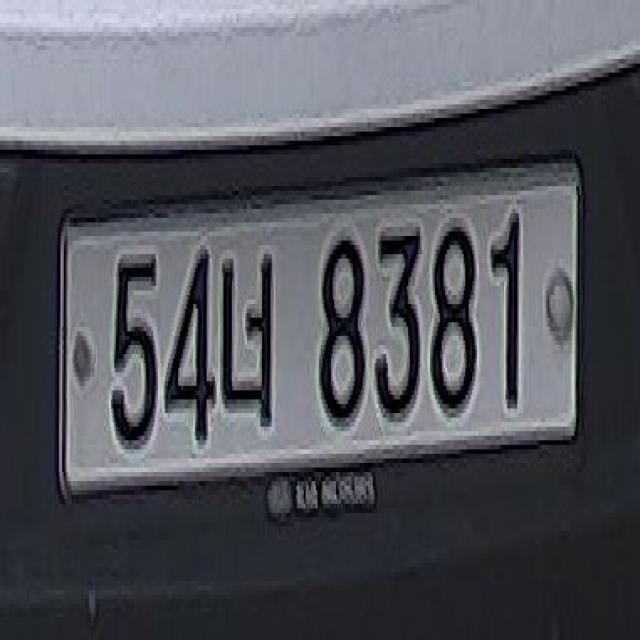1: (479, 200, 527, 436)
3: (372, 200, 434, 436)
4: (161, 204, 220, 472)
5: (104, 218, 166, 445)
8: (314, 209, 368, 449), (430, 213, 487, 422)
license_plate: (50, 145, 595, 549)
neo: (212, 236, 287, 436)
